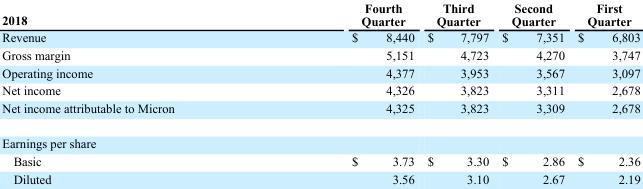table: (1, 0, 639, 185)
table column: (1, 0, 262, 185), (262, 0, 420, 185), (494, 0, 570, 185), (420, 0, 494, 185), (570, 0, 639, 185)
table column header: (1, 0, 639, 28)
table projected row header: (1, 125, 639, 152)
table row: (1, 0, 639, 28), (1, 125, 639, 152), (1, 99, 639, 125), (1, 45, 639, 63), (1, 63, 639, 81), (1, 81, 639, 99), (1, 28, 639, 45), (1, 152, 639, 169), (1, 169, 639, 185)
